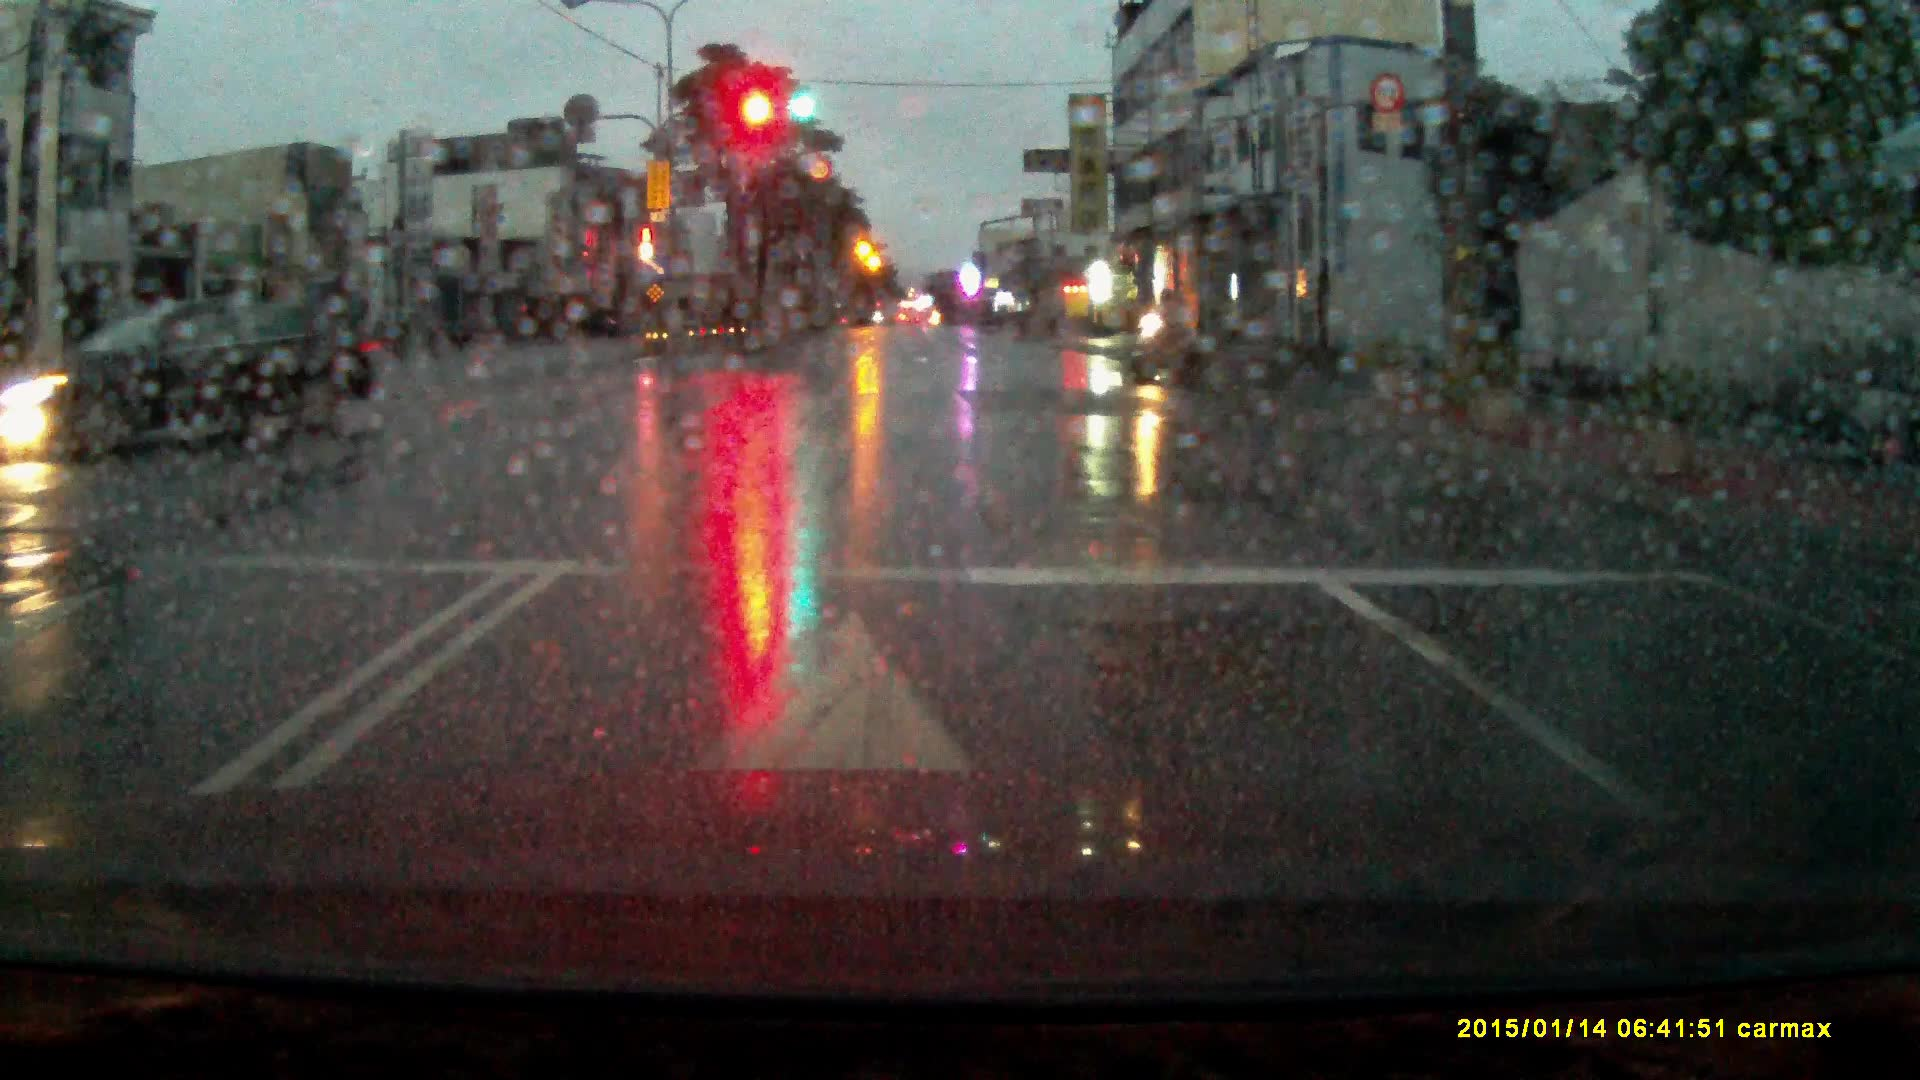rider: (1115, 284, 1202, 375)
vehicle: (13, 293, 360, 466)
